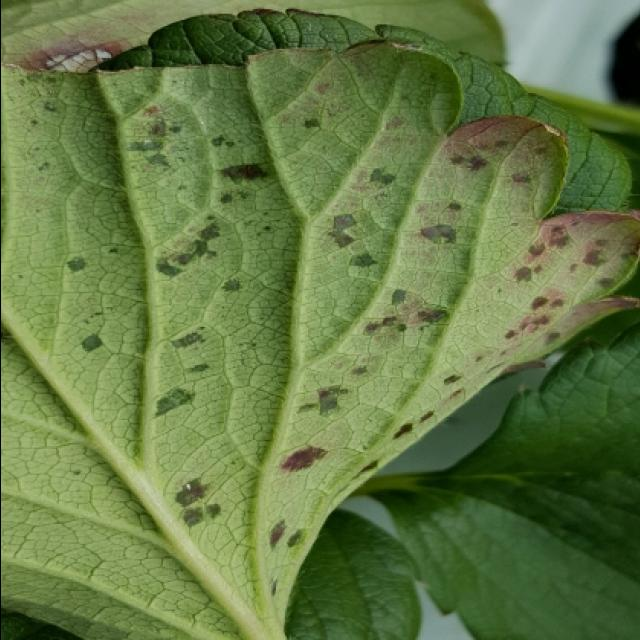Angular Leafspot: (11, 36, 640, 604), (2, 2, 264, 72)
